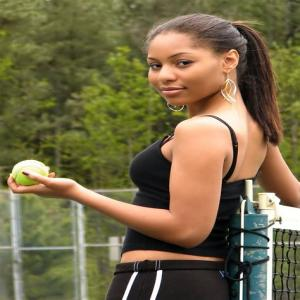Tennis: (8, 155, 52, 185)
